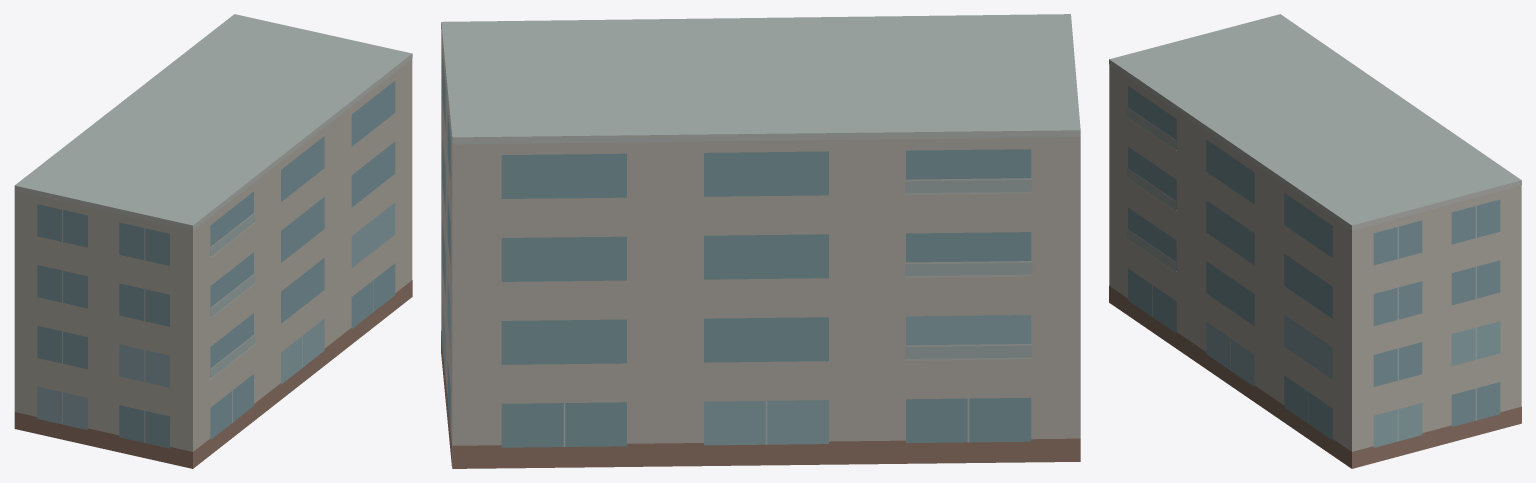
The model's file is survey-upis-32938437.glb.
3 renders of one model, left to right at view 1: azimuth 30°, elevation 25°; view 2: azimuth 150°, elevation 25°; view 3: azimuth 270°, elevation 25°, orthographic. The views are drawn at different scales.
Visible parts, largest first — view 1: survey-upis-32938437.tmp; view 2: survey-upis-32938437.tmp; view 3: survey-upis-32938437.tmp.
Boxes of the visible parts, x1=… form: survey-upis-32938437.tmp: x1=14, y1=14, x2=412, y2=468; survey-upis-32938437.tmp: x1=441, y1=14, x2=1080, y2=468; survey-upis-32938437.tmp: x1=1109, y1=14, x2=1521, y2=468.
Bounding box in the file's own units: 21.64 × 11.6 × 17.83.
